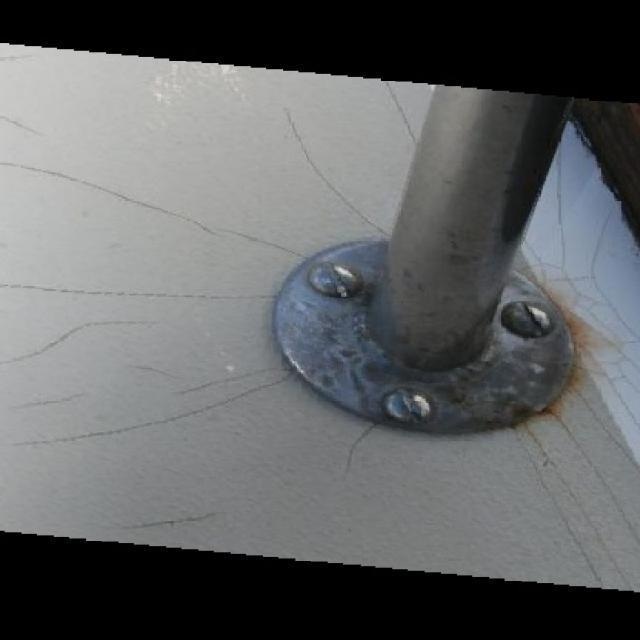crack: (268, 135, 390, 240), (1, 314, 154, 367), (309, 411, 394, 493), (200, 220, 311, 274), (119, 497, 247, 535), (169, 353, 288, 393), (111, 365, 187, 394), (19, 389, 87, 409)
